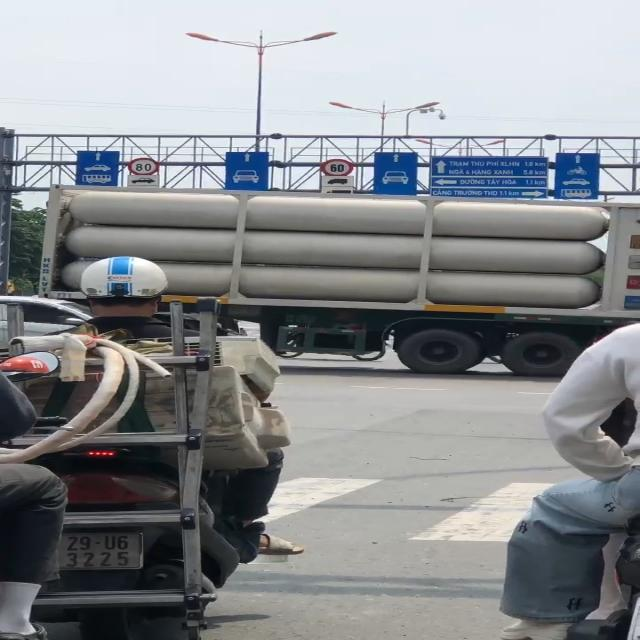Bien bao toc do toi da cho phep: (319, 158, 357, 179), (125, 157, 164, 177)
